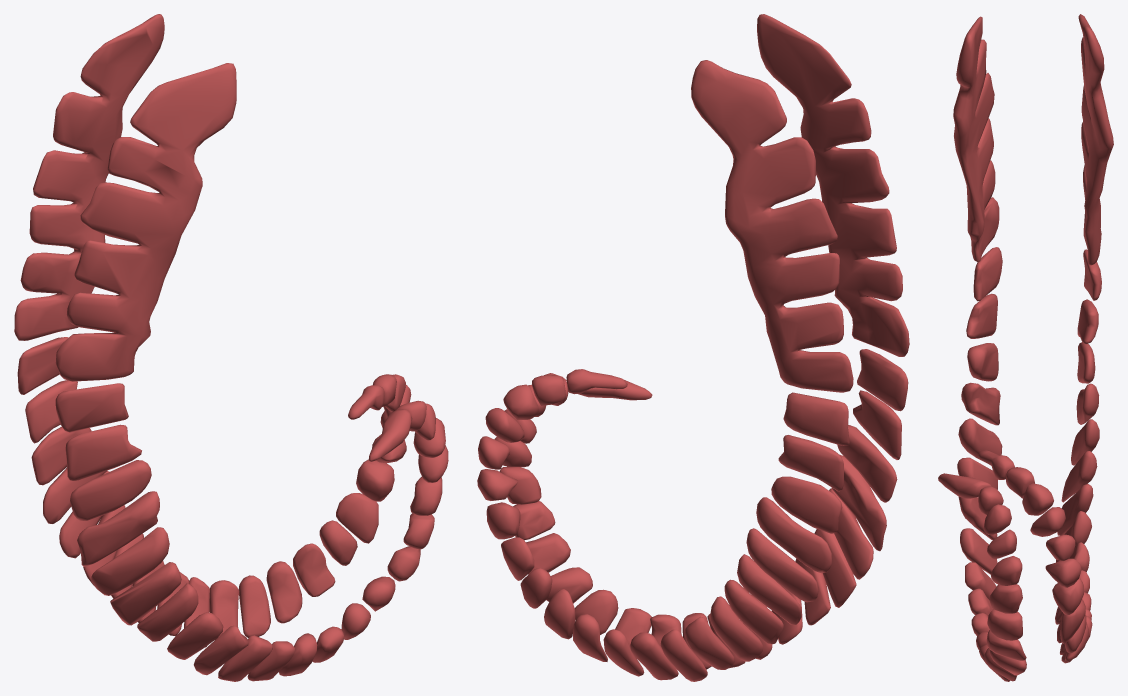
Rendered from Somites_Puzzle.fbx.
3 views of the same model, side by side, from view 1: azimuth 30°, elevation 25°; view 2: azimuth 150°, elevation 25°; view 3: azimuth 270°, elevation 25° (orthographic). The views are drawn at different scales.
Parts seen in each view (by area): view 1: Somites; view 2: Somites; view 3: Somites.
Part boxes in pixels (x1=…): Somites: x1=14, y1=14, x2=448, y2=681; Somites: x1=477, y1=14, x2=909, y2=681; Somites: x1=938, y1=14, x2=1113, y2=681.
Bounding box in the file's own units: 22.76 × 35.43 × 9.37.
